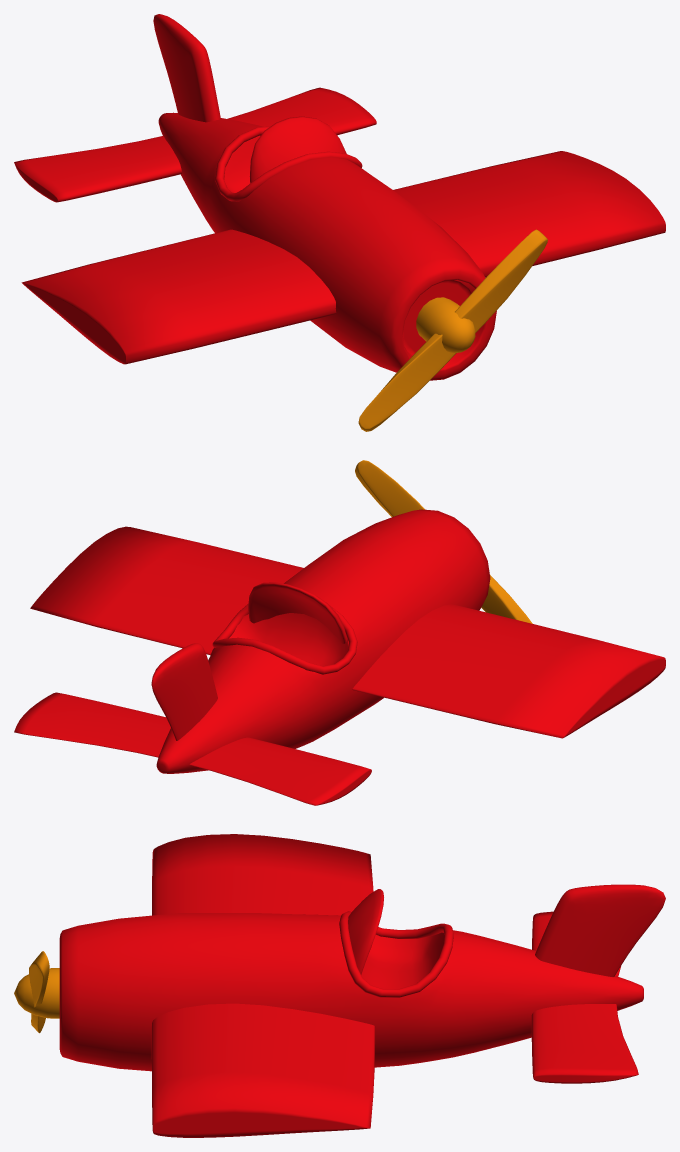
3 views of the same model, one above another, from view 1: azimuth 30°, elevation 25°; view 2: azimuth 150°, elevation 25°; view 3: azimuth 270°, elevation 25° (orthographic). The views are drawn at different scales.
Visible parts, largest first — view 1: PlaneBody, PlanePropeller; view 2: PlaneBody, PlanePropeller; view 3: PlaneBody, PlanePropeller.
Boxes of the visible parts, box(x1,y1,x2,y2) form: PlaneBody: box(14, 14, 665, 380); PlanePropeller: box(358, 229, 547, 431); PlaneBody: box(14, 509, 665, 805); PlanePropeller: box(355, 460, 532, 623); PlaneBody: box(59, 834, 665, 1137); PlanePropeller: box(14, 951, 59, 1033).
Bounding box in the file's own units: 3.43 × 1.11 × 3.45.
